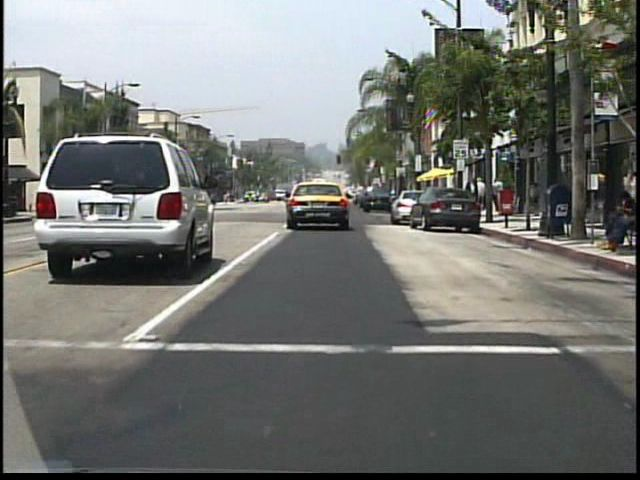person: (576, 195, 626, 252), (464, 176, 481, 220), (476, 178, 488, 216), (497, 181, 509, 217), (487, 183, 499, 216)
